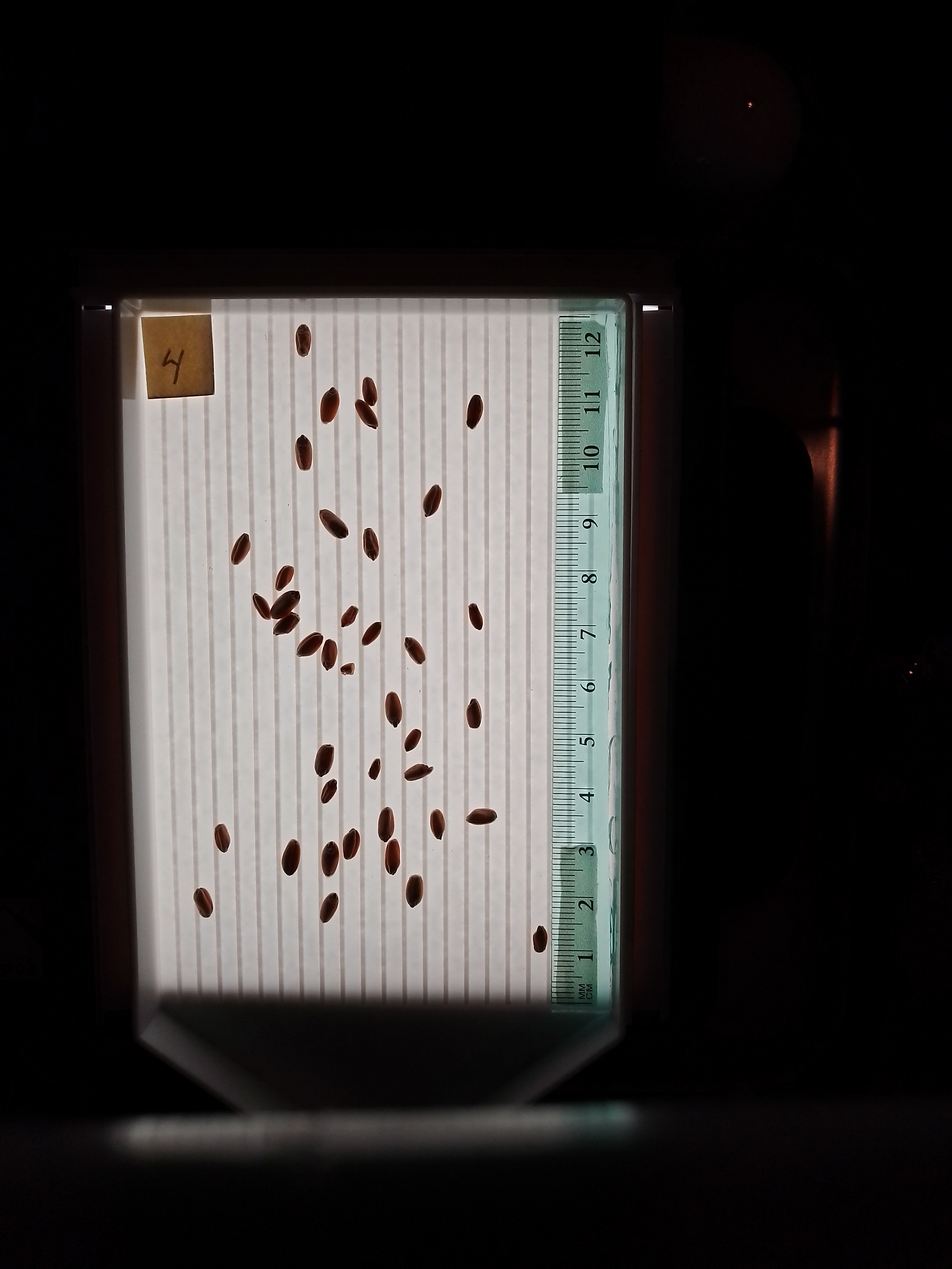seed mask: (271, 591, 300, 619), (320, 510, 348, 539), (320, 388, 340, 423), (356, 399, 378, 429), (321, 842, 340, 875), (282, 841, 300, 875), (314, 745, 334, 775), (295, 436, 312, 471), (423, 485, 442, 516), (406, 875, 424, 907), (231, 535, 250, 565), (194, 888, 213, 917), (363, 528, 380, 560), (405, 637, 425, 664), (378, 808, 394, 841), (298, 634, 322, 656), (466, 397, 483, 428), (295, 325, 312, 356), (320, 893, 338, 922), (467, 808, 497, 825), (274, 614, 298, 635), (386, 693, 401, 726), (275, 565, 294, 591), (343, 830, 360, 859), (405, 763, 432, 781), (214, 823, 230, 852), (321, 640, 337, 669), (386, 841, 400, 874), (466, 700, 482, 728), (362, 378, 378, 406), (362, 622, 381, 645), (431, 810, 445, 838), (533, 926, 548, 952), (253, 595, 269, 619), (404, 729, 421, 751), (321, 780, 337, 803), (469, 604, 483, 630), (342, 606, 357, 626), (368, 759, 380, 779)
